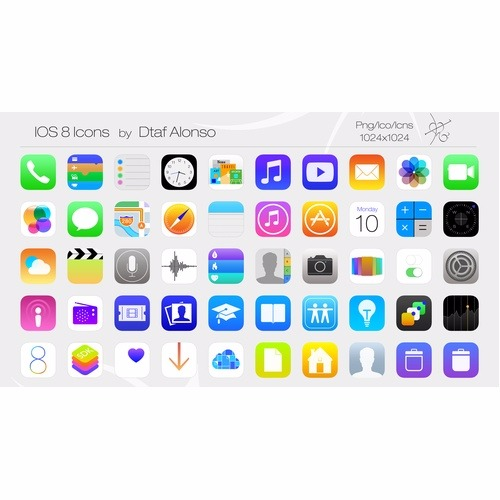calendar: (348, 200, 385, 238)
camera: (442, 153, 478, 189)
clock: (161, 154, 196, 190)
mail: (348, 153, 385, 190)
message: (67, 200, 103, 236)
phone: (19, 153, 55, 190)
